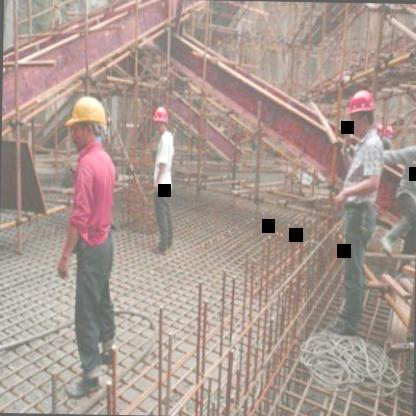helmet: (65, 92, 110, 152), (344, 87, 376, 135), (150, 103, 172, 135)
